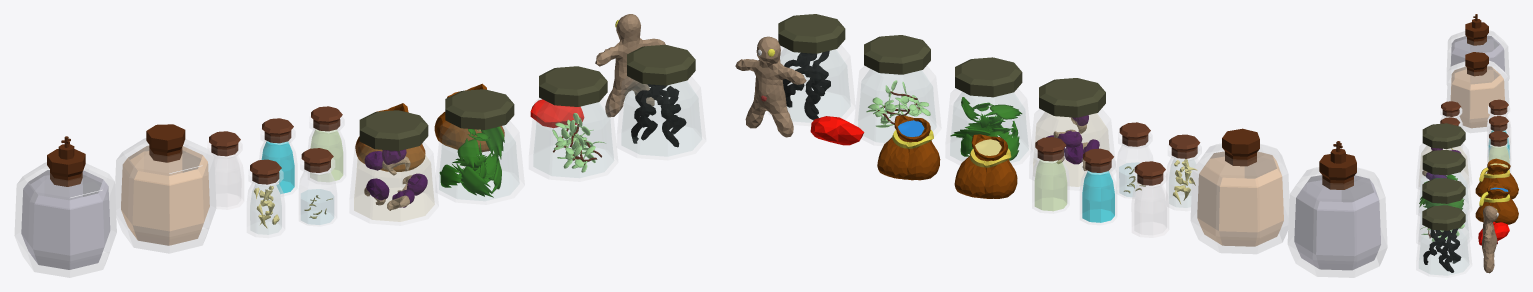
Rendered from IngrediantsFinale.fbx.
3 views of the same model, side by side, from view 1: azimuth 30°, elevation 25°; view 2: azimuth 150°, elevation 25°; view 3: azimuth 270°, elevation 25° (orthographic). The views are drawn at different scales.
Parts seen in each view (by area): view 1: Alchole, Alchole.003, Nettle Jar, Peppermint, Jair of Hair, Jar of Snails, Alchole.002, Alchole.001, voodoo doll combines, Jar of DogTeeth, Bats Blood, ToenailJar (+5 smaller); view 2: Alchole, Alchole.003, Alchole.002, Alchole.001, Peppermint, Jair of Hair, Nettle Jar, Jar of Snails, voodoo doll combines, baggy of Saphire, Baggy of BoneDust, Venom Of Snake (+5 smaller); view 3: Jair of Hair, Alchole, Alchole.001, Nettle Jar, Jar of Snails, Alchole.003, Peppermint, baggy of Saphire, Alchole.002, Baggy of BoneDust, voodoo doll combines, Venom Of Snake (+5 smaller).
Part boxes in pixels (<box>): Alchole: <box>121,124,209,245</box>; Alchole.003: <box>21,149,110,269</box>; Nettle Jar: <box>439,89,519,201</box>; Peppermint: <box>533,66,614,178</box>; Jair of Hair: <box>621,44,702,156</box>; Jar of Snails: <box>354,110,434,221</box>; Alchole.002: <box>21,136,110,269</box>; Alchole.001: <box>121,145,209,245</box>; voodoo doll combines: <box>595,14,665,117</box>; Jar of DogTeeth: <box>250,159,281,234</box>; Bats Blood: <box>209,131,241,207</box>; ToenailJar: <box>300,148,334,225</box>; Alchole: <box>1197,128,1283,246</box>; Alchole.003: <box>1294,154,1381,270</box>; Alchole.002: <box>1294,141,1380,270</box>; Alchole.001: <box>1197,151,1283,246</box>; Peppermint: <box>858,35,936,142</box>; Jair of Hair: <box>778,14,850,122</box>; Nettle Jar: <box>950,57,1028,162</box>; Jar of Snails: <box>1033,78,1111,186</box>; voodoo doll combines: <box>735,36,806,137</box>; baggy of Saphire: <box>877,115,940,180</box>; Baggy of BoneDust: <box>954,134,1017,198</box>; Venom Of Snake: <box>1034,137,1067,211</box>; Jair of Hair: <box>1418,205,1469,275</box>; Alchole: <box>1450,52,1504,128</box>; Alchole.001: <box>1450,66,1504,128</box>; Nettle Jar: <box>1418,149,1469,209</box>; Jar of Snails: <box>1418,123,1469,186</box>; Alchole.003: <box>1450,22,1504,71</box>; Peppermint: <box>1419,178,1469,241</box>; baggy of Saphire: <box>1475,183,1518,224</box>; Alchole.002: <box>1450,14,1504,71</box>; Baggy of BoneDust: <box>1475,158,1518,199</box>; voodoo doll combines: <box>1482,205,1498,273</box>; Venom Of Snake: <box>1488,131,1509,169</box>.
Bounding box in the file's own units: 176 × 32.83 × 38.31.
